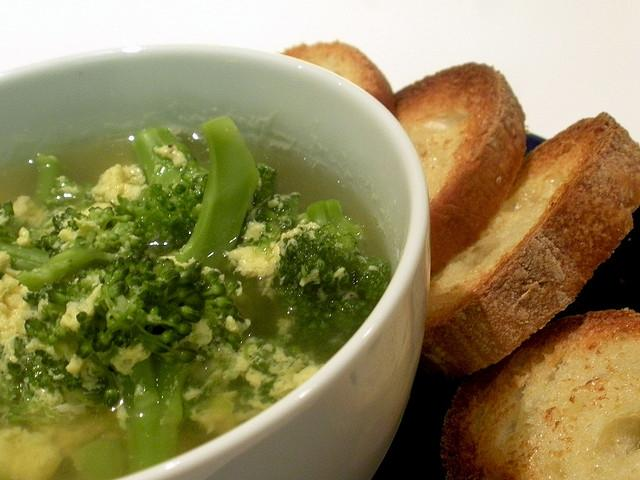broccoli: (83, 297, 196, 473), (269, 200, 392, 331), (164, 114, 260, 274), (15, 201, 149, 293), (115, 127, 211, 250), (0, 336, 110, 431), (234, 192, 300, 248), (33, 152, 63, 206), (0, 242, 51, 270), (0, 201, 26, 239)
